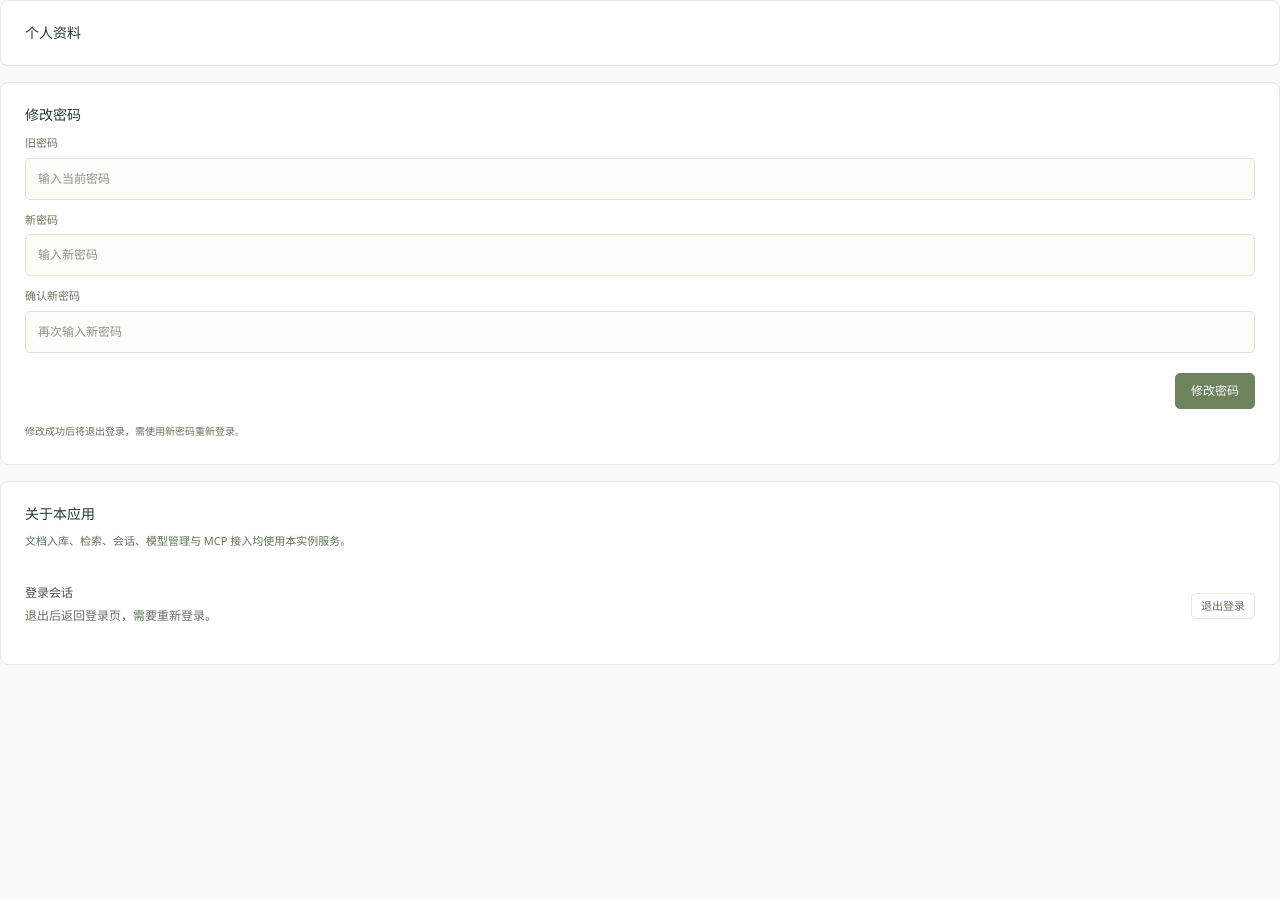
Test: AccountTab 修改密码 › 未填旧密码时提示
Step 1. Click the button "修改密码" → click(1215, 391), box 1175,373 -> 1255,409
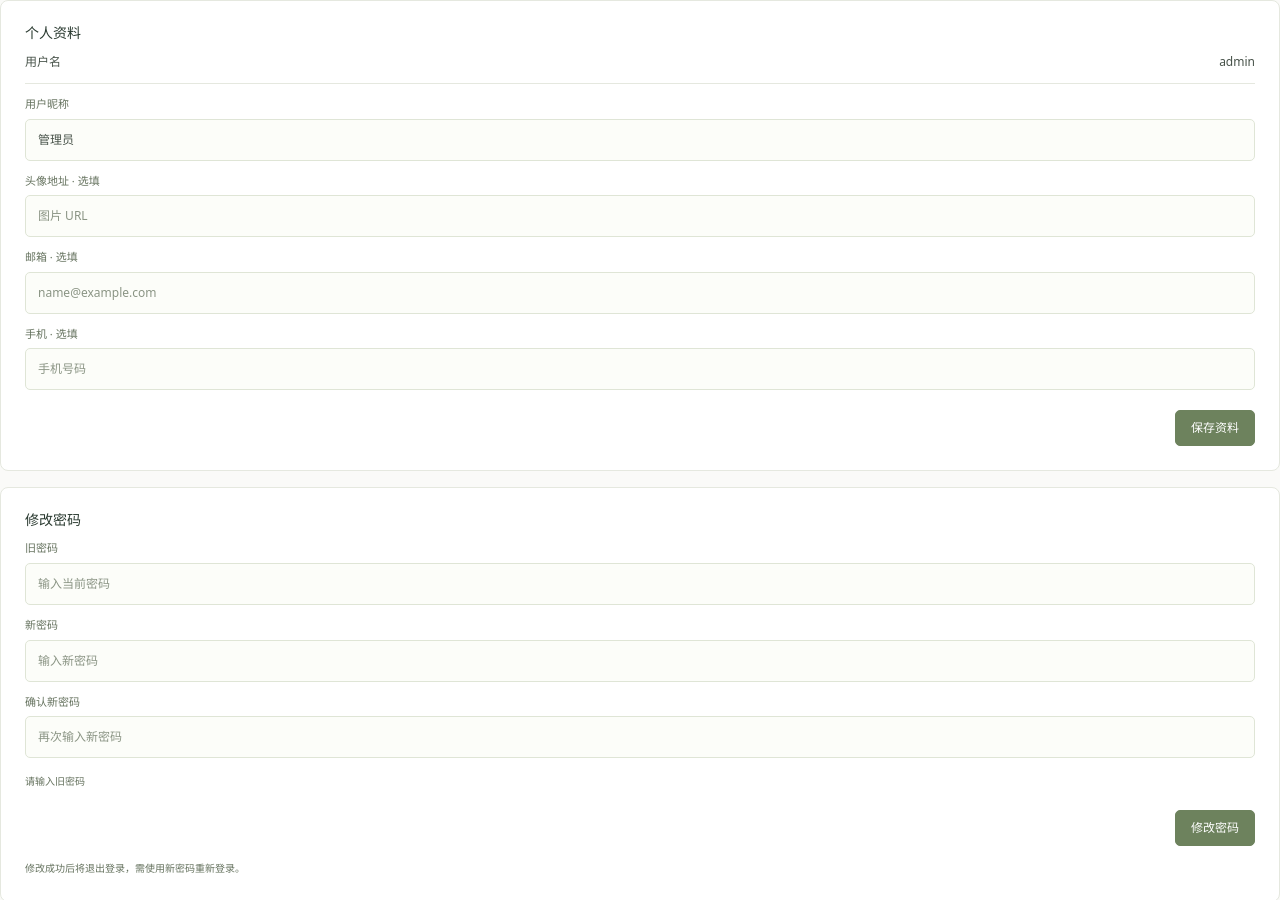
Check: the text "请输入旧密码" is shown, box 25,774 -> 85,788
